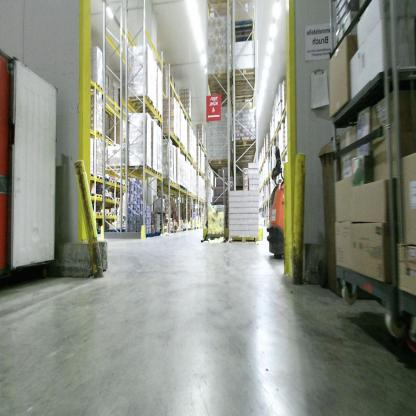pallet: (207, 67, 232, 87), (232, 135, 258, 153), (233, 69, 256, 85), (232, 18, 254, 33), (128, 94, 153, 107), (225, 236, 260, 245), (209, 156, 230, 170), (124, 162, 152, 172), (143, 110, 163, 121), (131, 105, 157, 113), (207, 1, 231, 9), (233, 87, 256, 95), (91, 79, 104, 92), (160, 176, 175, 187), (105, 164, 126, 170), (163, 132, 177, 138), (157, 231, 165, 241), (96, 128, 104, 137), (94, 190, 102, 199), (143, 231, 150, 240), (96, 174, 104, 181), (115, 179, 122, 187), (152, 165, 157, 175), (96, 211, 103, 218), (103, 211, 110, 218), (110, 211, 117, 218), (150, 231, 157, 238), (173, 178, 178, 187), (104, 176, 110, 183), (110, 179, 116, 186), (89, 191, 95, 198), (90, 172, 95, 180), (169, 226, 174, 234), (116, 195, 121, 202), (179, 183, 184, 190), (157, 170, 162, 177), (177, 227, 181, 234), (173, 228, 178, 233), (177, 182, 180, 189), (177, 137, 180, 142), (181, 142, 183, 147)
pallet_truck: (265, 136, 299, 262)
